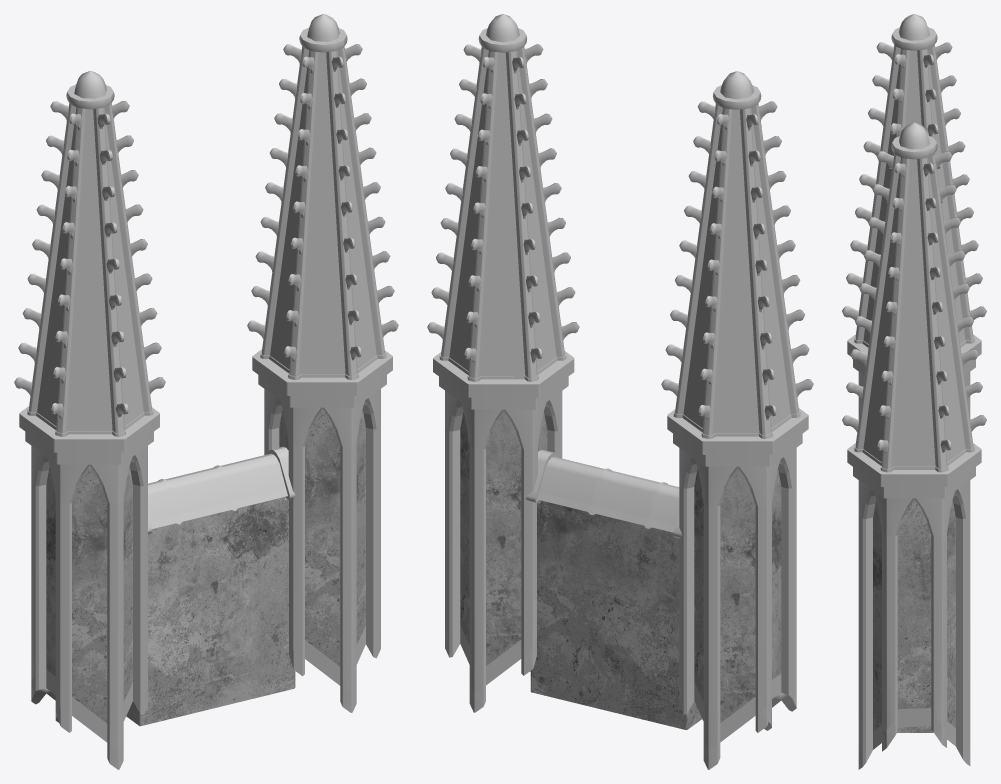
File: SM_PinnacleDouble_01a.fbx
3 views of the same model, side by side, from view 1: azimuth 30°, elevation 25°; view 2: azimuth 150°, elevation 25°; view 3: azimuth 270°, elevation 25° (orthographic). The views are drawn at different scales.
Parts seen in each view (by area): view 1: SM_PinnacleDouble_01a_LOD0; view 2: SM_PinnacleDouble_01a_LOD0; view 3: SM_PinnacleDouble_01a_LOD0.
Boxes of the visible parts, left/top/right/bottom form: SM_PinnacleDouble_01a_LOD0: left=14, top=14, right=398, bottom=769; SM_PinnacleDouble_01a_LOD0: left=427, top=14, right=813, bottom=769; SM_PinnacleDouble_01a_LOD0: left=842, top=14, right=986, bottom=769.
Bounding box in the file's own units: 497 × 188 × 925.
